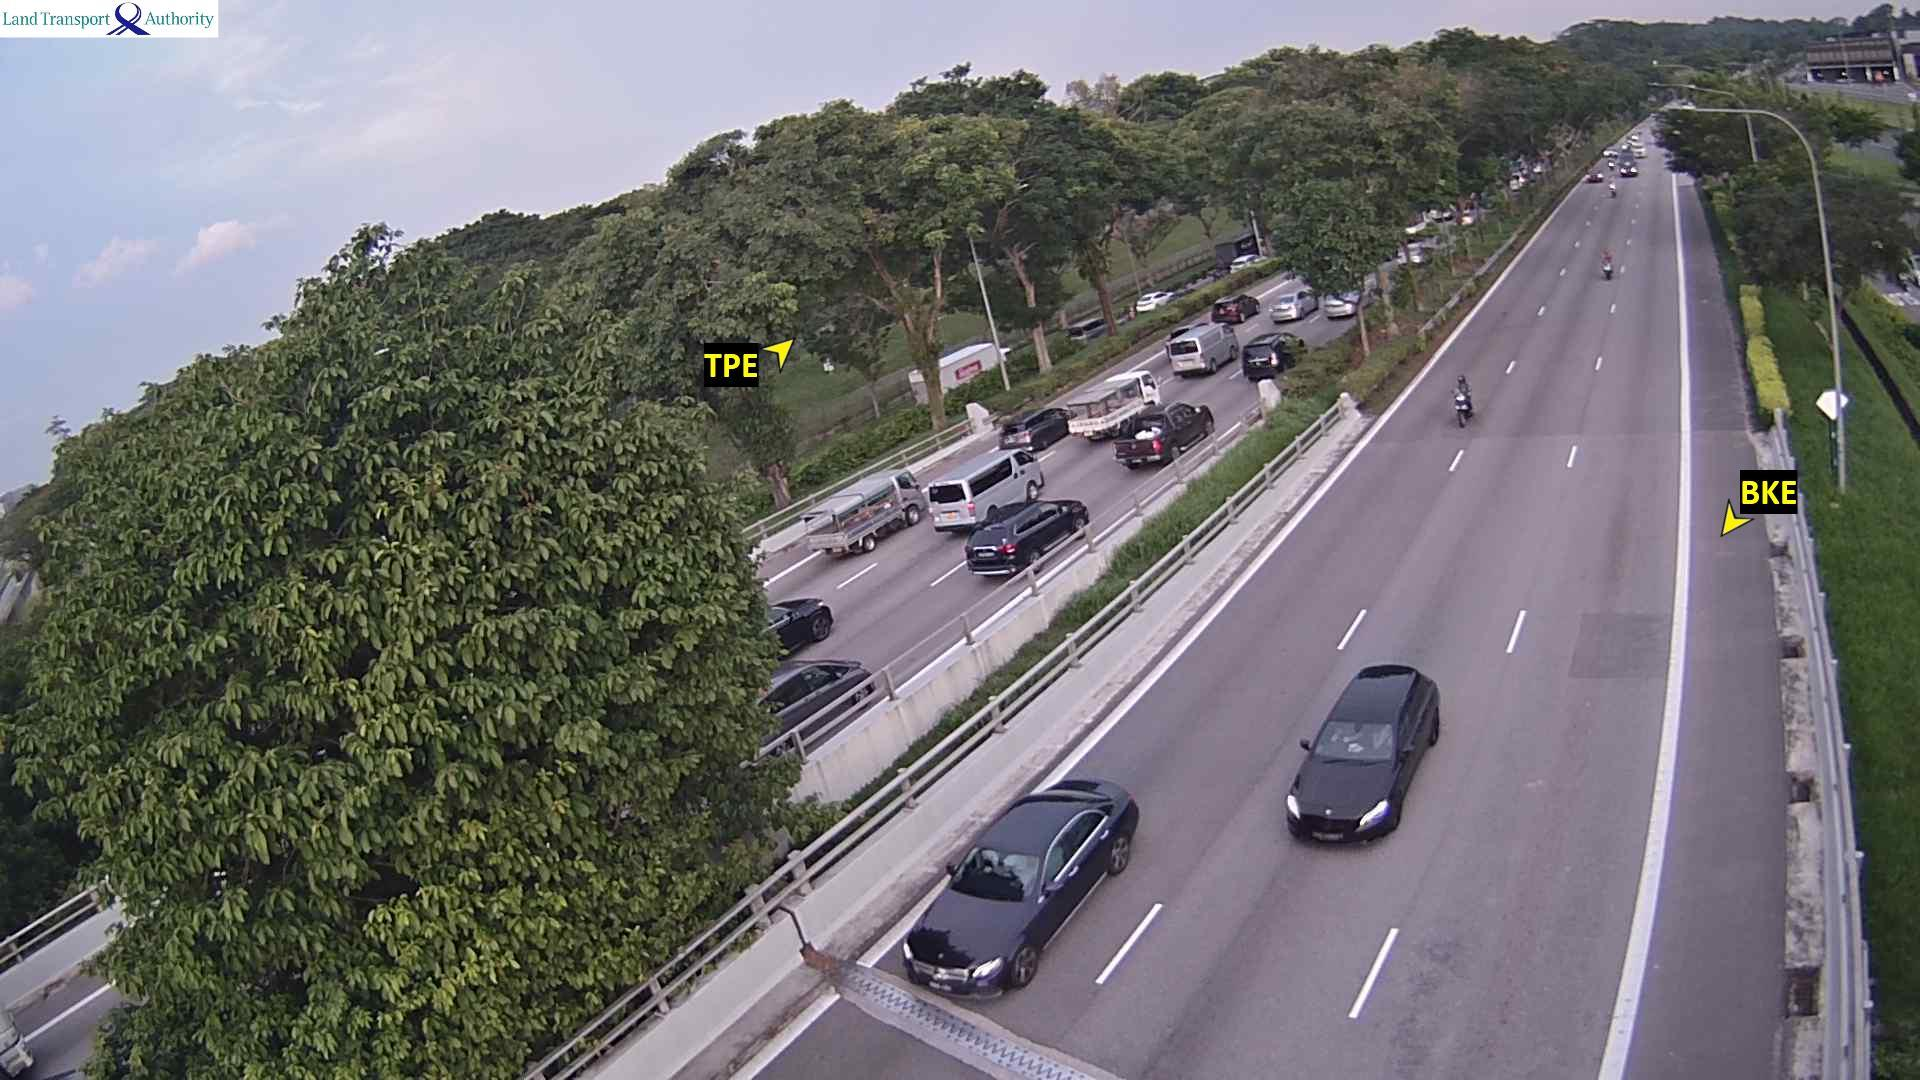incoming: (919, 848, 1064, 1002), (1293, 715, 1412, 843), (1453, 390, 1473, 429)
